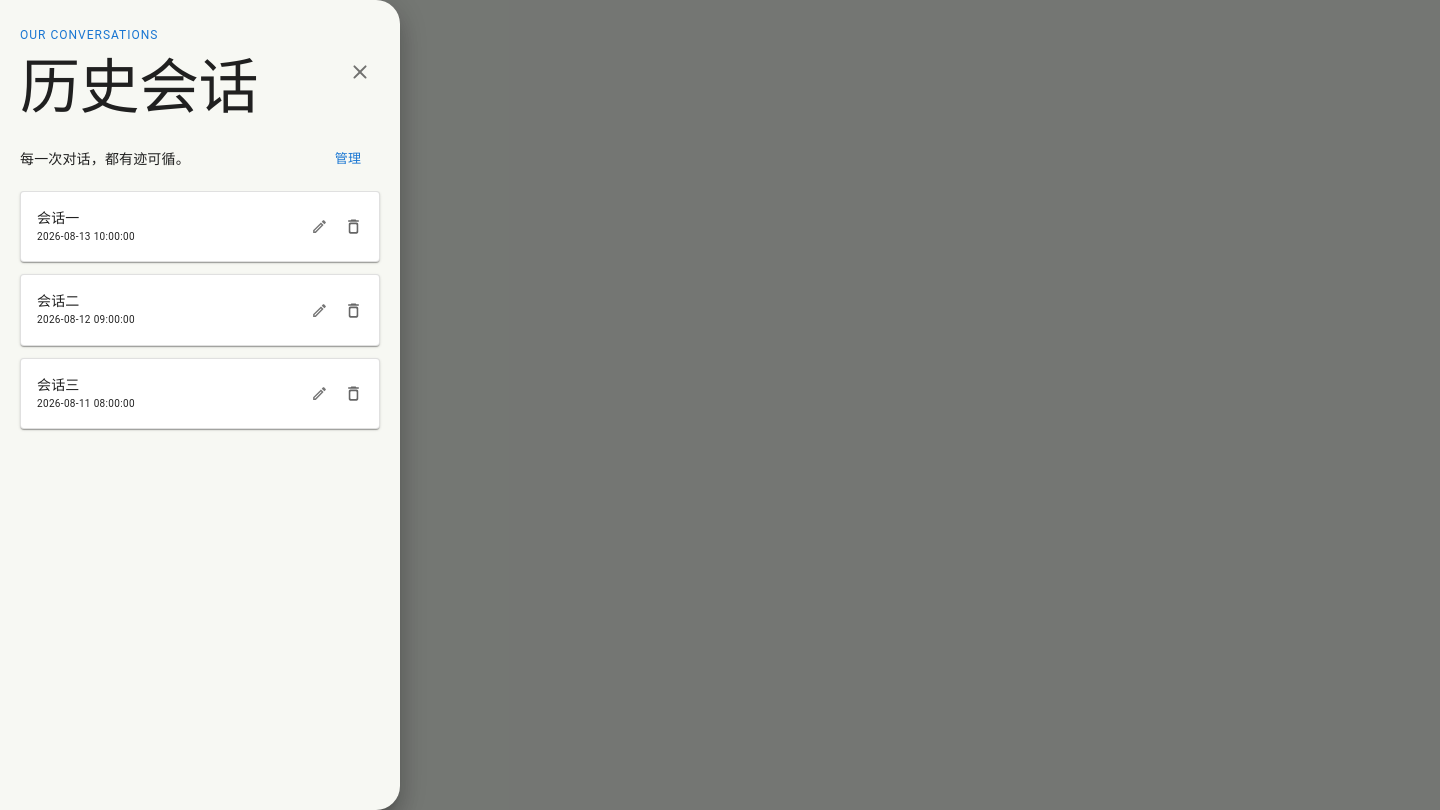
Test: HistorySidebar 批量删除 › 管理模式下勾选多个会话并批量删除
This screenshot has width=1440, height=810.
Expected: the text "会话一" is shown, [37,210,80,226]
Click the button with aria-label "批量管理会话" at (348, 159), box [316,144,380,175]
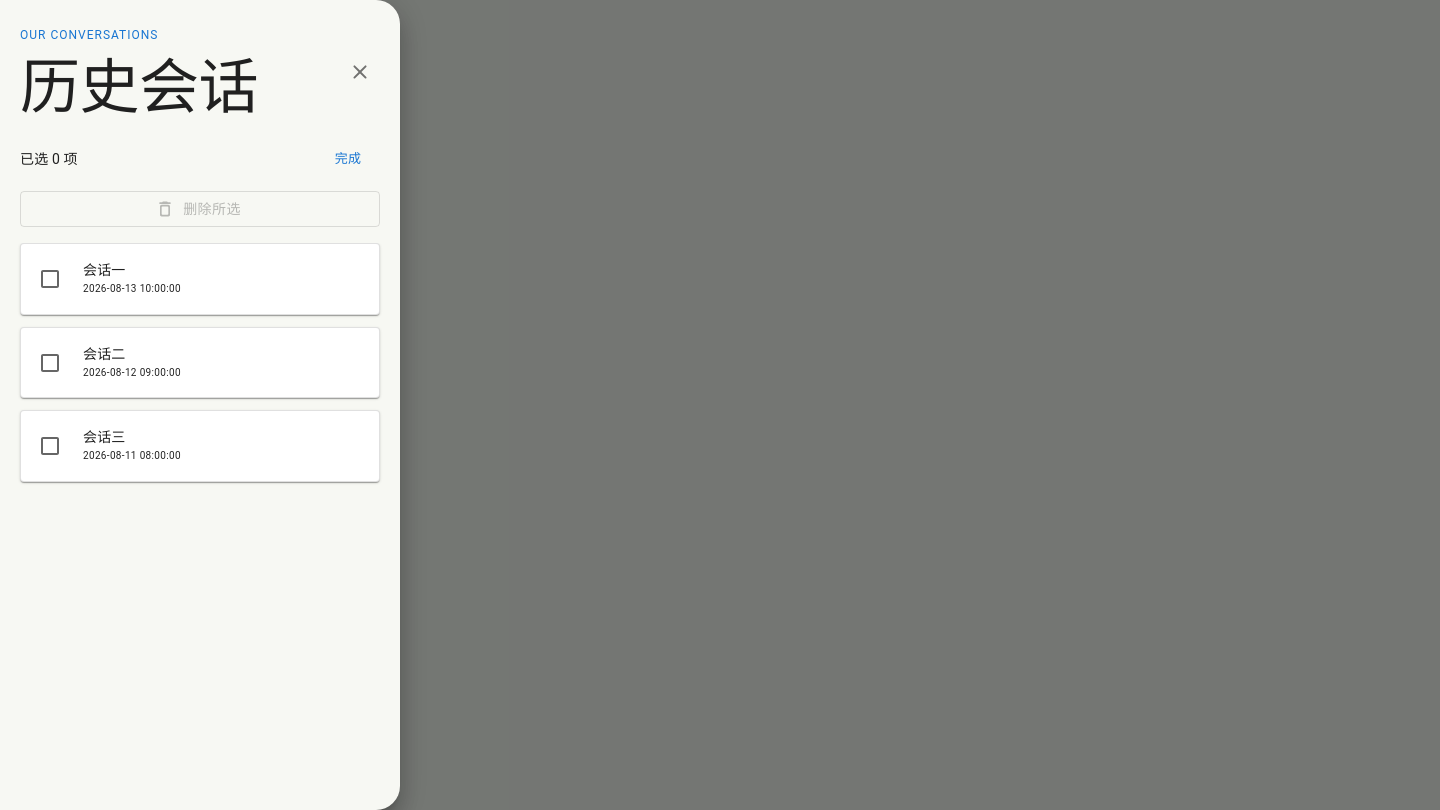
Expected: the text "已选 0 项" is shown, [20,149,78,169]
Note: 勾选 1、2 两个会话
Click the checkbox named "选择会话 会话一" at (50, 279), box [38,267,62,291]
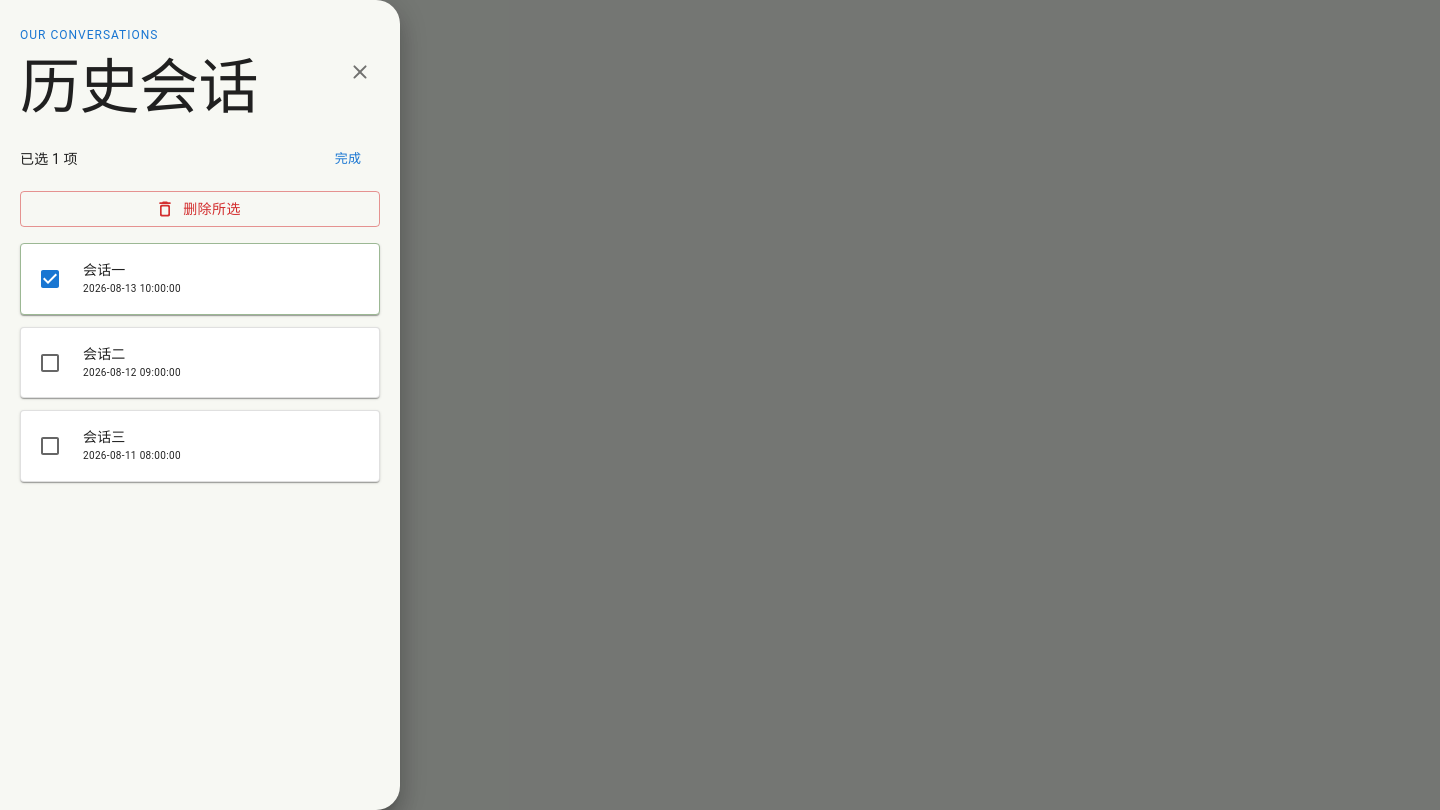
Click the checkbox named "选择会话 会话二" at (50, 363), box [38,351,62,375]
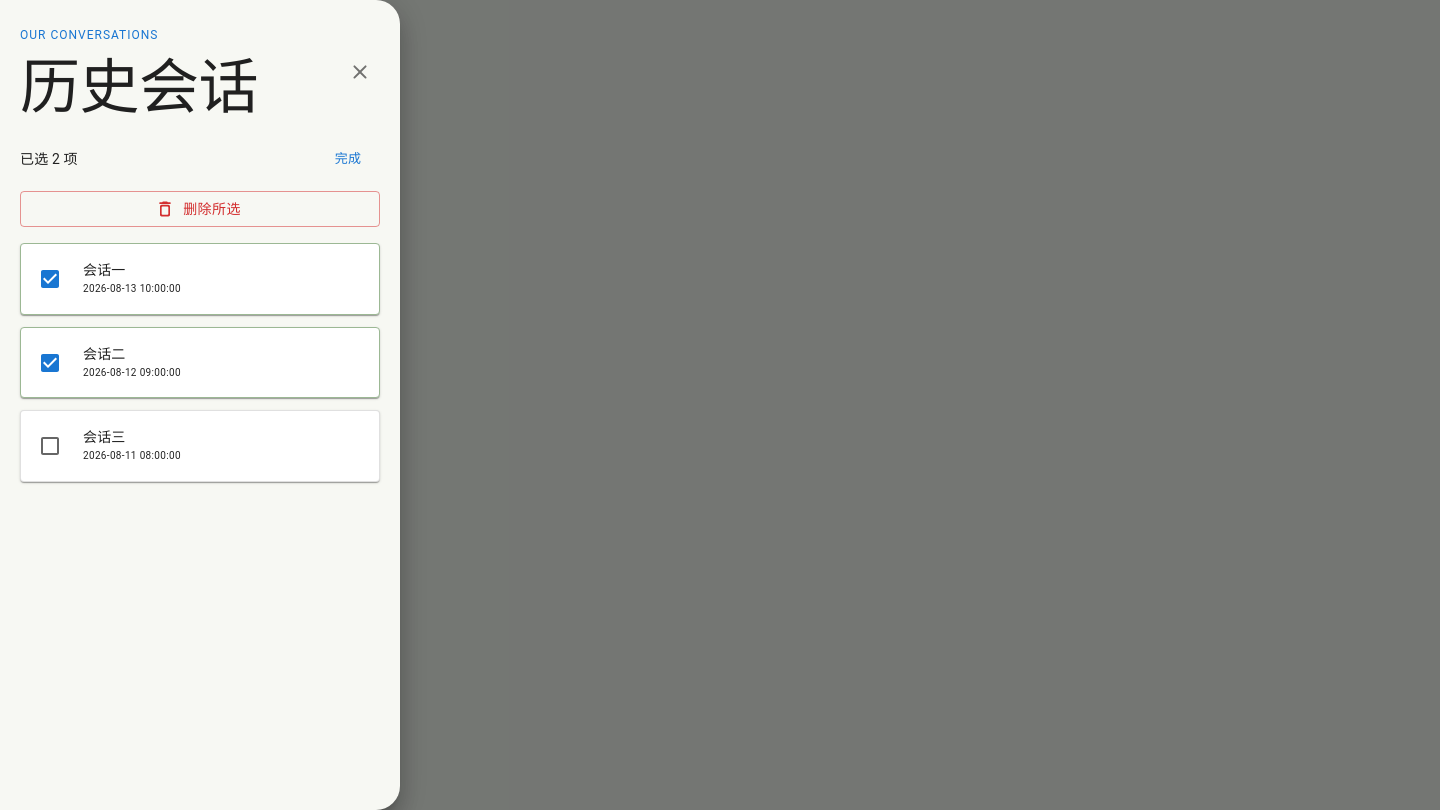
Expected: the text "已选 2 项" is shown, [20,149,78,169]
Click the button with aria-label "删除所选会话" at (200, 209), box [20,191,380,227]
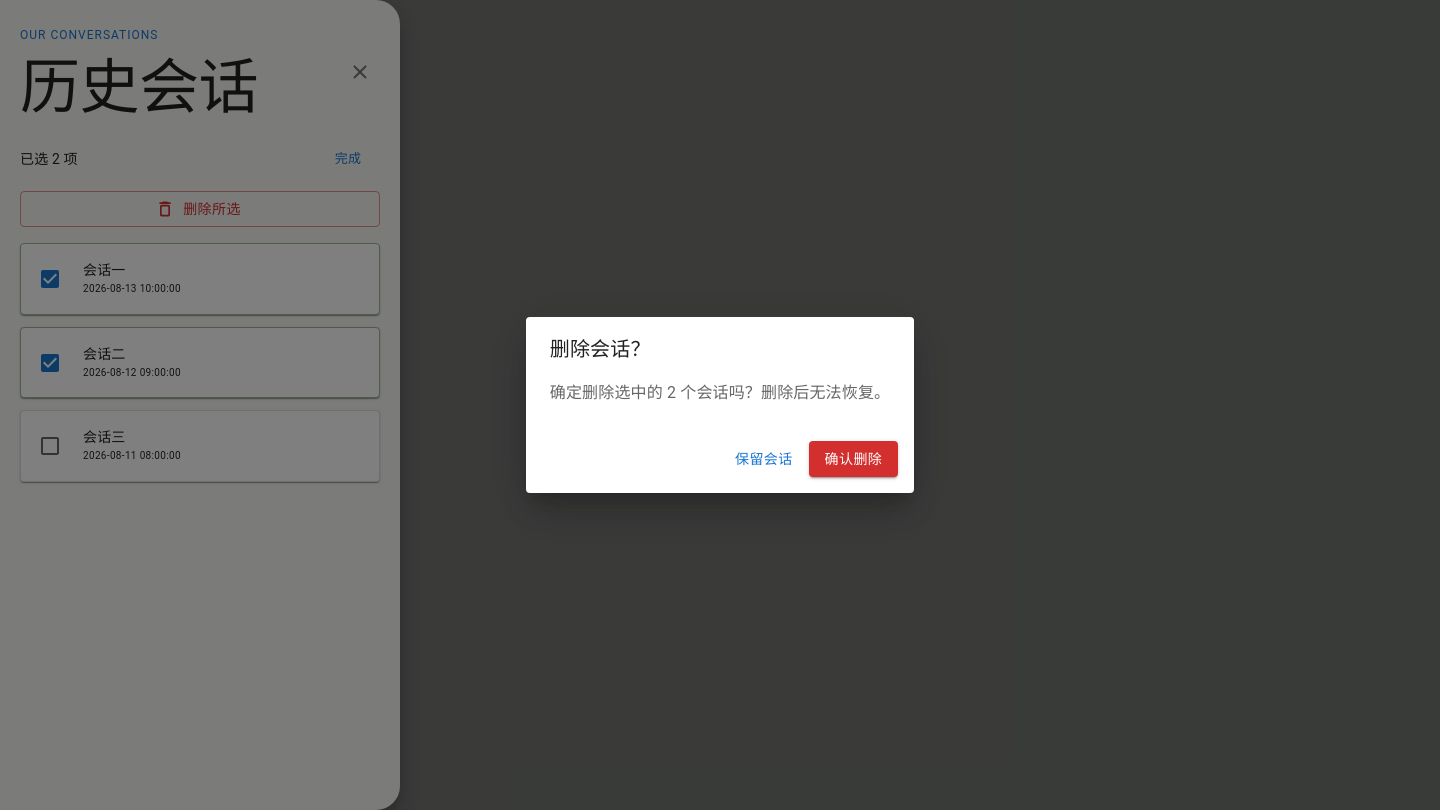
Click the button "确认删除" at (853, 459), box [809,441,898,477]
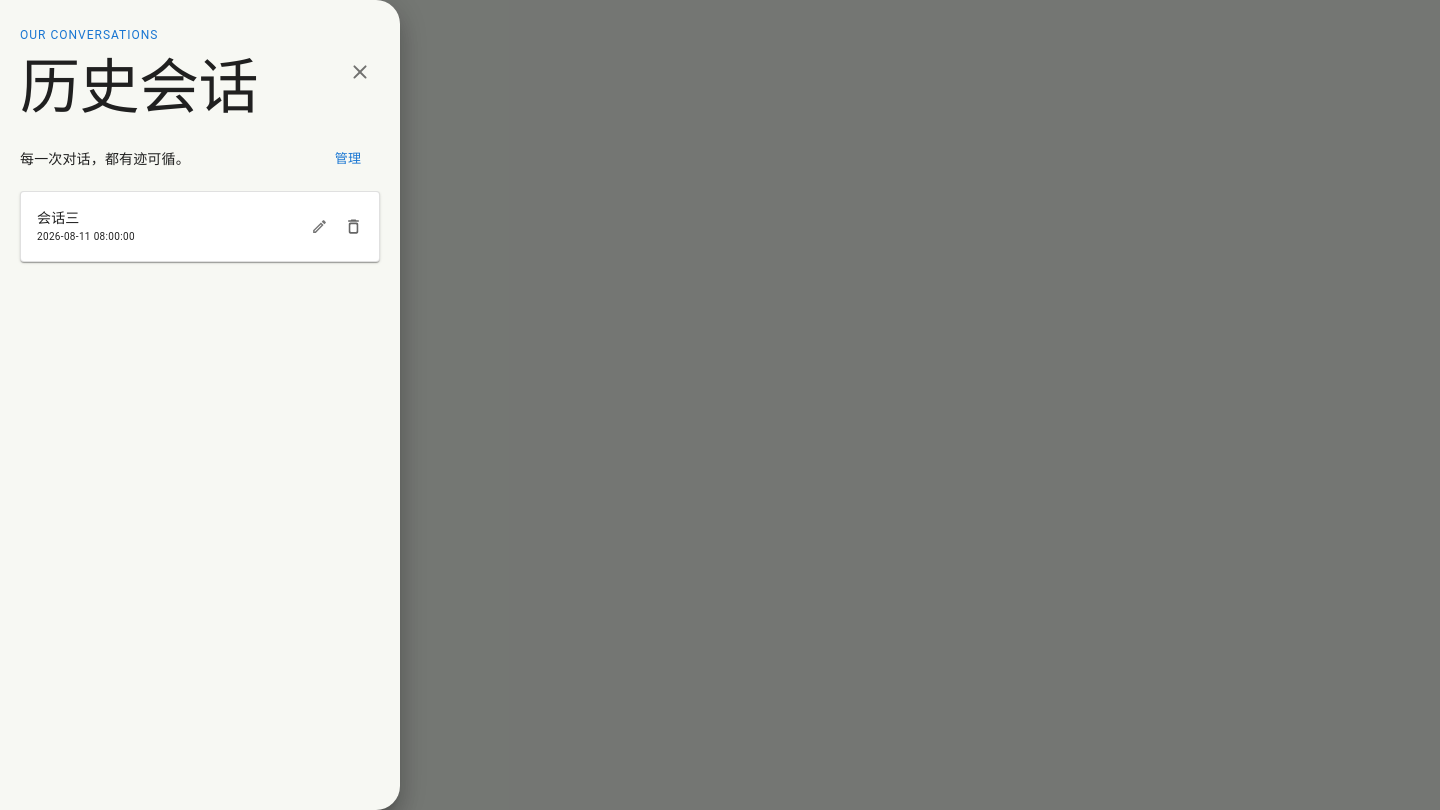
Expected: the text "会话三" is shown, [37,210,80,226]
Expected: the button "会话一" is gone
Expected: the button "会话二" is gone
